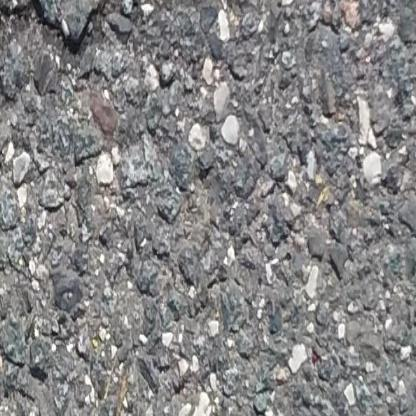Cracks: (0, 0, 209, 63), (305, 0, 416, 21)
